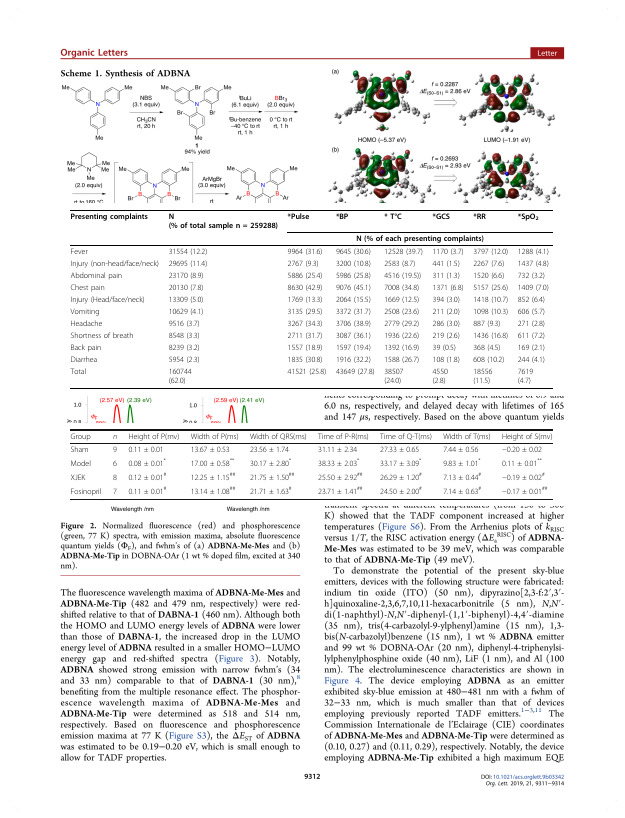borderless: (69, 208, 553, 388), (70, 428, 553, 499)
cell: (168, 212, 279, 230), (355, 234, 485, 244), (70, 259, 160, 269), (70, 295, 146, 305), (70, 212, 149, 221), (70, 331, 134, 341), (249, 432, 308, 441), (70, 271, 123, 281), (501, 485, 548, 496), (190, 471, 236, 482), (249, 471, 295, 482), (317, 471, 363, 482), (190, 485, 236, 496), (317, 485, 363, 496), (190, 457, 235, 468), (501, 471, 546, 482), (379, 432, 433, 441), (379, 471, 423, 482), (249, 485, 293, 496), (379, 485, 423, 496), (127, 432, 180, 441), (317, 432, 370, 441), (249, 457, 292, 468), (317, 457, 360, 468), (379, 457, 422, 468), (501, 432, 553, 441), (501, 457, 543, 468), (442, 432, 492, 441), (190, 432, 239, 441), (127, 457, 167, 468), (442, 457, 482, 468), (127, 471, 167, 482), (442, 471, 482, 482), (127, 485, 167, 496), (442, 485, 482, 496), (168, 367, 192, 385), (383, 247, 424, 257), (168, 247, 208, 257), (168, 259, 208, 269), (383, 271, 422, 281), (501, 445, 543, 454), (383, 367, 404, 385), (472, 367, 493, 385), (335, 247, 372, 257), (472, 247, 509, 257), (335, 259, 372, 269), (335, 271, 372, 281), (335, 283, 372, 293), (383, 283, 420, 293), (472, 283, 509, 293), (335, 295, 372, 305), (383, 295, 420, 305), (472, 295, 509, 305), (335, 307, 372, 317), (383, 307, 420, 317), (472, 307, 509, 317), (335, 319, 372, 329), (383, 319, 420, 329), (335, 331, 372, 341), (383, 331, 420, 341), (472, 331, 509, 341), (190, 445, 231, 454), (249, 445, 290, 454), (317, 445, 358, 454), (379, 445, 420, 454), (287, 247, 323, 257), (168, 271, 204, 281), (287, 271, 323, 281), (70, 283, 106, 293), (168, 283, 204, 293), (287, 283, 323, 293), (168, 295, 204, 305), (287, 295, 323, 305), (168, 307, 204, 317), (287, 307, 323, 317), (287, 319, 323, 329), (287, 331, 323, 341), (287, 367, 327, 376), (335, 367, 375, 376), (127, 445, 165, 454), (442, 445, 479, 454), (335, 343, 372, 352), (383, 343, 420, 352), (335, 355, 372, 364), (383, 355, 420, 364), (431, 247, 464, 257), (517, 247, 550, 257), (287, 259, 320, 269), (383, 259, 416, 269), (472, 259, 505, 269), (517, 259, 550, 269), (472, 271, 505, 281), (431, 283, 464, 293), (517, 283, 550, 293), (70, 319, 103, 329), (168, 319, 201, 329), (168, 331, 201, 341), (287, 343, 323, 352), (287, 355, 323, 364), (431, 367, 449, 385), (517, 367, 534, 385), (431, 259, 461, 269), (431, 271, 461, 281), (431, 295, 461, 305), (70, 307, 100, 317), (431, 307, 461, 317), (431, 319, 461, 329), (431, 331, 461, 341), (168, 343, 201, 352), (168, 355, 201, 364), (472, 355, 505, 364), (517, 271, 546, 281), (517, 295, 546, 305), (517, 307, 546, 317), (472, 319, 501, 329), (517, 319, 546, 329), (517, 331, 546, 341), (70, 487, 102, 496), (70, 343, 102, 352), (431, 355, 461, 364), (472, 343, 501, 352), (517, 343, 546, 352), (517, 355, 546, 364), (70, 355, 98, 364), (431, 343, 457, 352), (517, 212, 540, 222), (287, 212, 310, 221), (70, 459, 92, 468), (70, 247, 89, 257), (70, 432, 91, 441), (383, 212, 403, 221), (431, 212, 451, 221), (70, 445, 89, 454), (70, 367, 87, 376), (70, 473, 86, 482), (472, 212, 487, 221), (335, 212, 349, 221), (112, 445, 118, 454), (112, 459, 118, 468), (112, 473, 118, 482), (112, 487, 118, 496), (112, 434, 118, 440)
